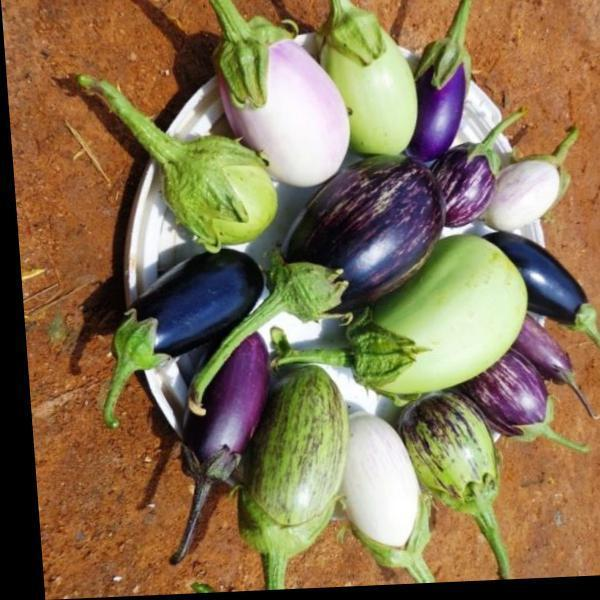eggplant: (142, 77, 496, 515), (235, 146, 458, 340), (300, 232, 522, 410), (74, 104, 274, 252), (62, 240, 258, 387), (222, 376, 344, 592), (241, 0, 341, 190), (329, 0, 427, 158), (334, 419, 421, 588)
